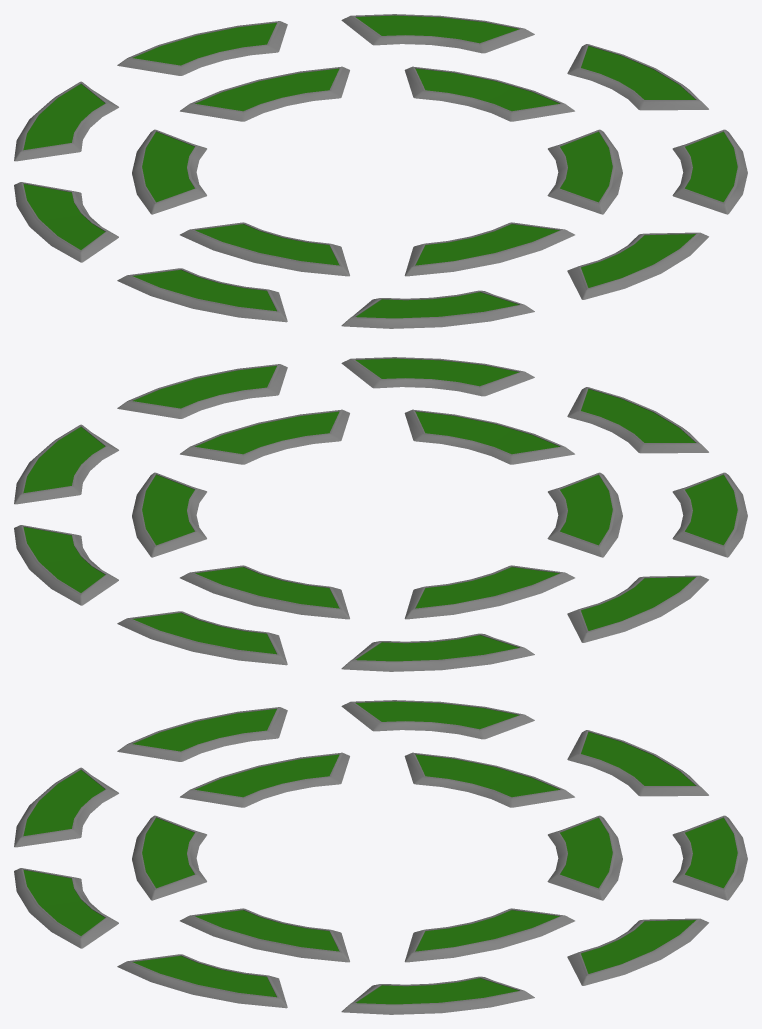
Rendered from FieldGrass.fbx.
3 views of the same model, one above another, from view 1: azimuth 30°, elevation 25°; view 2: azimuth 150°, elevation 25°; view 3: azimuth 270°, elevation 25° (orthographic).
Parts seen in each view (by area): view 1: Cylinder.001, Cylinder; view 2: Cylinder.001, Cylinder; view 3: Cylinder.001, Cylinder.
Boxes of the visible parts, bbox=[...] form: Cylinder.001: bbox=[14, 14, 747, 328]; Cylinder: bbox=[132, 66, 622, 276]; Cylinder.001: bbox=[14, 357, 747, 671]; Cylinder: bbox=[132, 409, 622, 619]; Cylinder.001: bbox=[14, 700, 747, 1014]; Cylinder: bbox=[132, 752, 622, 962].
Size of the model in its own units: 6442 by 60.49 by 6410.
